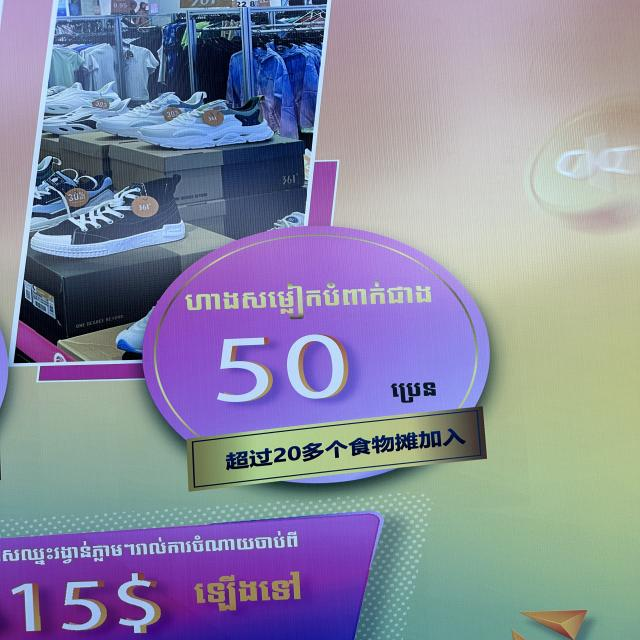774: (203, 331, 465, 411)
Yolov11kh: (177, 282, 436, 322)
